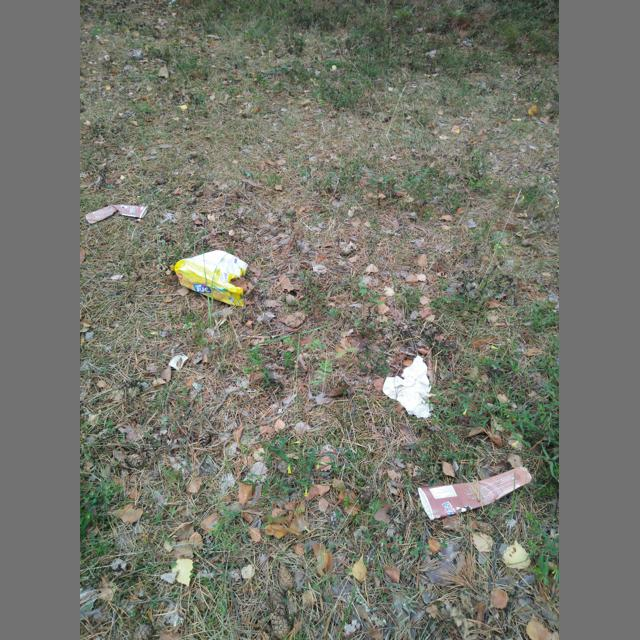litter: (417, 466, 533, 520), (168, 250, 247, 306), (383, 355, 434, 418), (83, 205, 147, 224)
